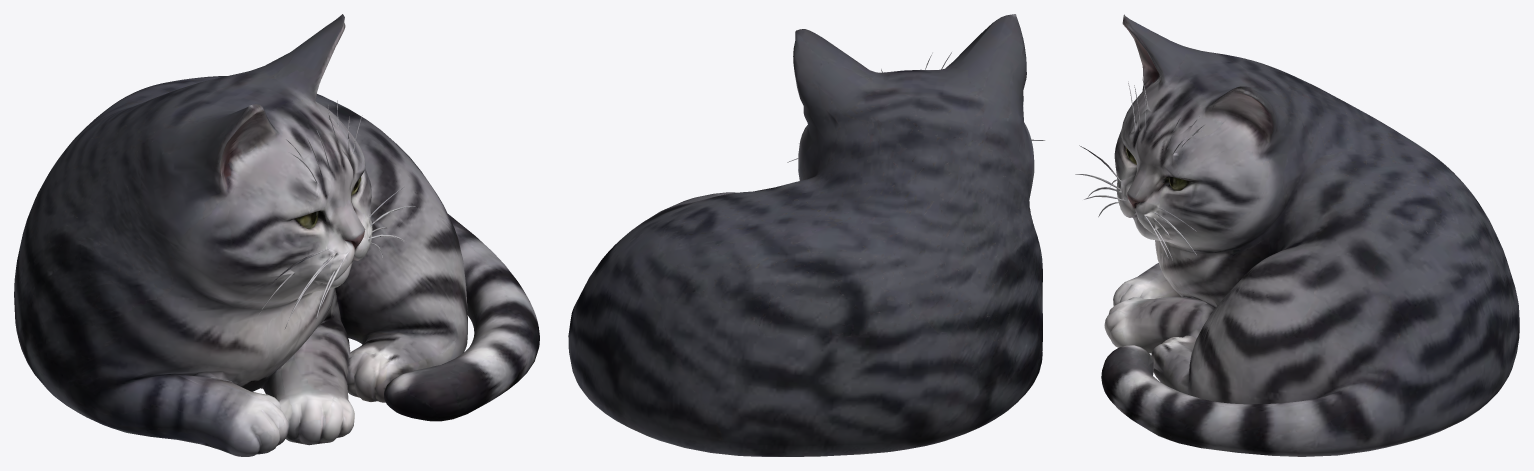
The model's file is cat_loaf.glb.
3 renders of one model, left to right at view 1: azimuth 30°, elevation 25°; view 2: azimuth 150°, elevation 25°; view 3: azimuth 270°, elevation 25°, orthographic. The views are drawn at different scales.
Visible parts, largest first — view 1: node_0; view 2: node_0; view 3: node_0.
Boxes of the visible parts, <box> form: node_0: <box>14,14,539,456</box>; node_0: <box>568,14,1044,456</box>; node_0: <box>1075,14,1519,456</box>.
Size of the model in its own units: 0.9867 by 0.7253 by 0.976.
Materials: 1 (1 with a texture image).
